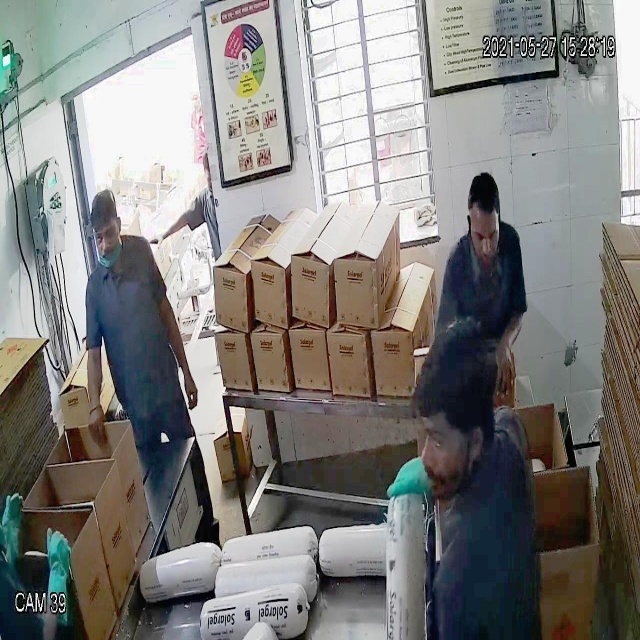Sin_gafas: (420, 417, 483, 461), (467, 219, 502, 248), (91, 221, 119, 247)
